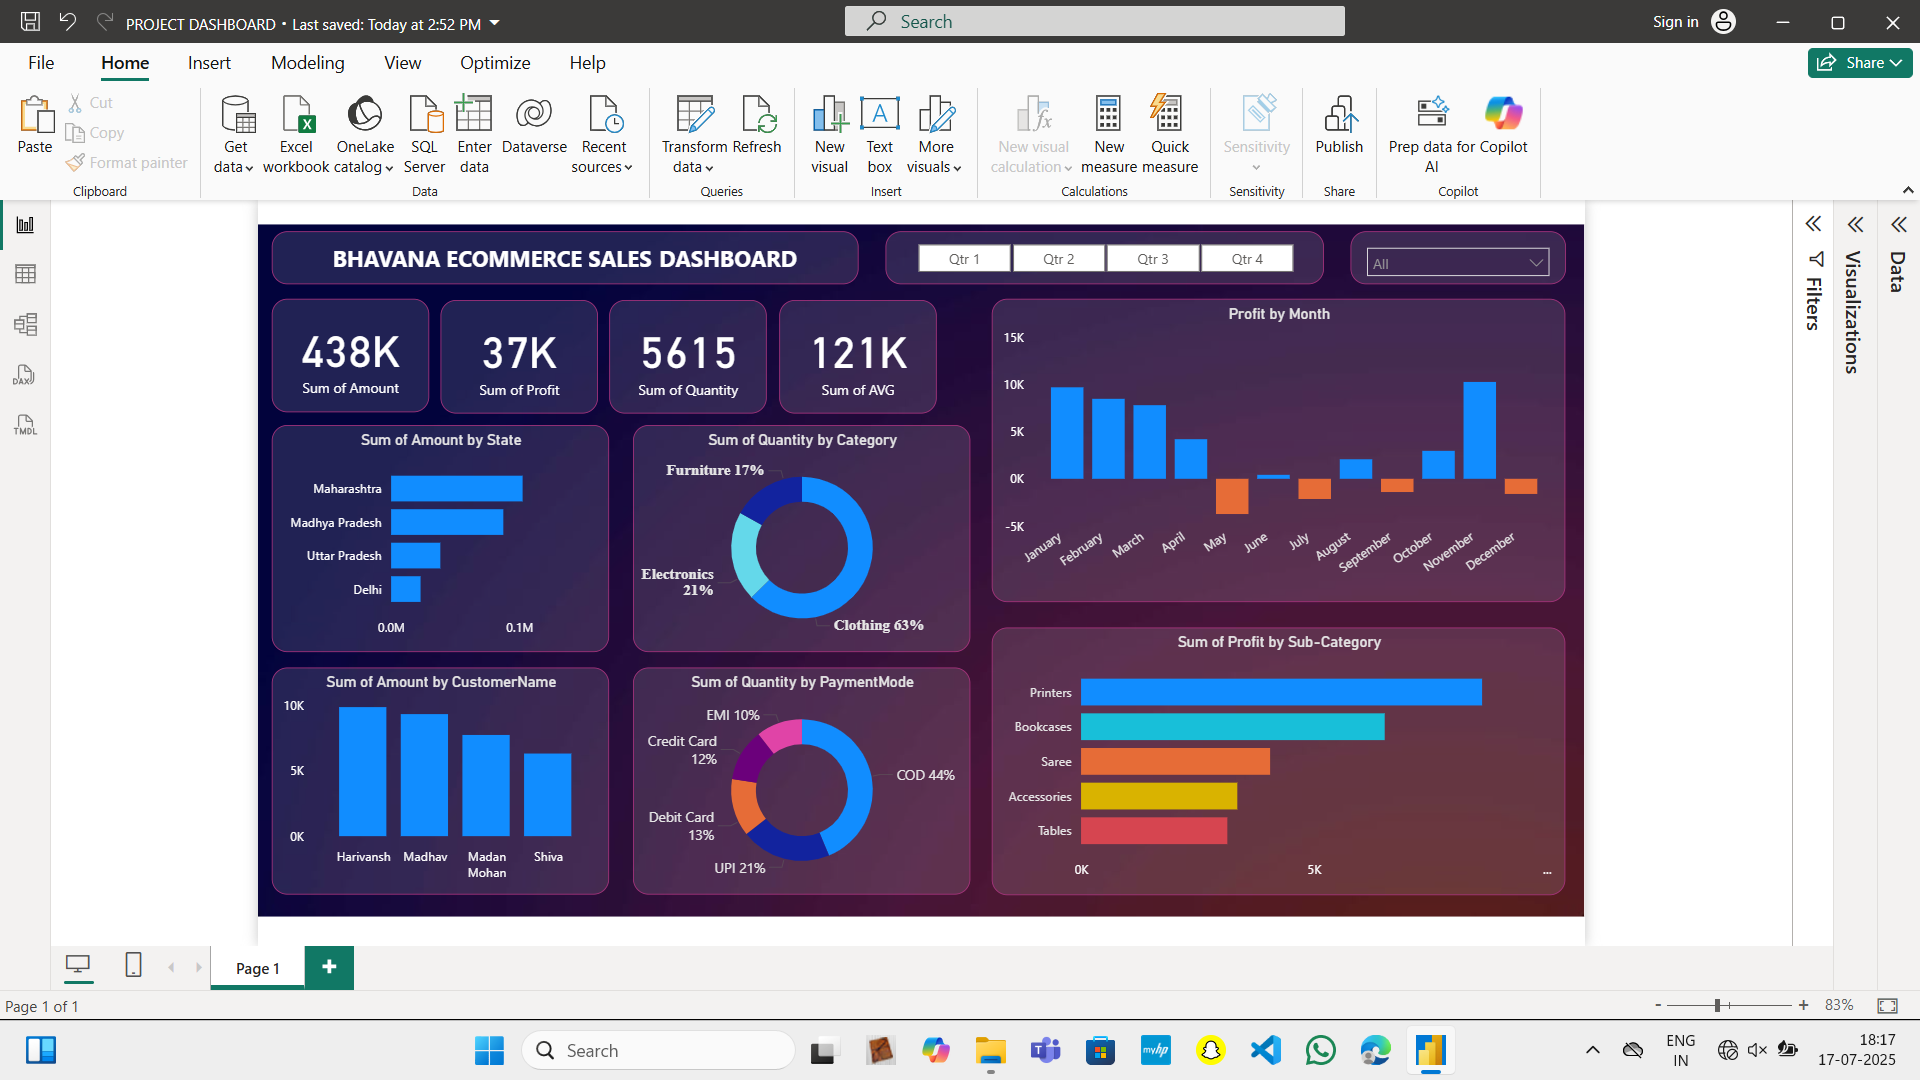

This screenshot's page, from the dashboard's own definition file:
{"tool":"powerbi","page":{"name":"Page 1","canvas":[1280,720],"ordinal":0},"visuals":[{"type":"textbox","box":[13.6,29.9,566.1,51.6],"z":0},{"type":"columnChart","title":"Profit by Month","fields":{"Category":["Orders.Order Date.Variation.Date Hierarchy.Month"],"Y":["Details.Profit"]},"box":[672,95.3,589.9,293.2],"z":1000},{"type":"barChart","fields":{"Category":["Details.Sub-Category"],"Y":["Details.Profit"]},"box":[672,412.6,589.9,258.2],"z":2000},{"type":"donutChart","fields":{"Category":["Details.Category"],"Y":["Details.Quantity"]},"box":[340.2,217.2,314.9,219.6],"z":3000},{"type":"donutChart","fields":{"Y":["Details.Quantity"],"Category":["Details.PaymentMode"]},"box":[340.2,451.2,314.9,219.6],"z":4000},{"type":"card","fields":{"Values":["Details.Amount"]},"box":[13.3,95.3,152,109.8],"z":5000},{"type":"card","fields":{"Values":["Details.Quantity"]},"box":[339,96.5,152,109.8],"z":6000},{"type":"card","fields":{"Values":["Details.AVG"]},"box":[503.1,96.5,152,109.8],"z":7000},{"type":"card","fields":{"Values":["Details.Profit"]},"box":[176.1,96.5,152,109.8],"z":8000},{"type":"barChart","fields":{"Y":["Details.Amount"],"Category":["Orders.State"]},"box":[13.3,217.2,314.9,219.6],"z":9000},{"type":"columnChart","fields":{"Category":["Orders.CustomerName"],"Y":["Details.Amount"]},"box":[13.3,451.2,314.9,219.6],"z":10000},{"type":"slicer","fields":{"Values":["Orders.Order Date.Variation.Date Hierarchy.Quarter"]},"box":[605.5,29.9,423.6,51.6],"z":11000},{"type":"slicer","fields":{"Values":["Orders.State"]},"box":[1054.9,29.9,207.7,51.6],"z":12000}]}

Visuals, with their boxes on the page's 1280x720 design canvas (x1, y1, x2, y2). These are canvas units, not pixel positions in the 1920x1080 screenshot, which may show the page scaled, cropped or inside an application window:
textbox: 14, 30, 580, 82
"Profit by Month" columnChart: 672, 95, 1262, 388
barChart - Details.Sub-Category x Details.Profit: 672, 413, 1262, 671
donutChart - Details.Category x Details.Quantity: 340, 217, 655, 437
donutChart - Details.Quantity x Details.PaymentMode: 340, 451, 655, 671
card - Details.Amount: 13, 95, 165, 205
card - Details.Quantity: 339, 96, 491, 206
card - Details.AVG: 503, 96, 655, 206
card - Details.Profit: 176, 96, 328, 206
barChart - Details.Amount x Orders.State: 13, 217, 328, 437
columnChart - Orders.CustomerName x Details.Amount: 13, 451, 328, 671
slicer - Orders.Order Date.Variation.Date Hierarchy.Quarter: 606, 30, 1029, 82
slicer - Orders.State: 1055, 30, 1263, 82
